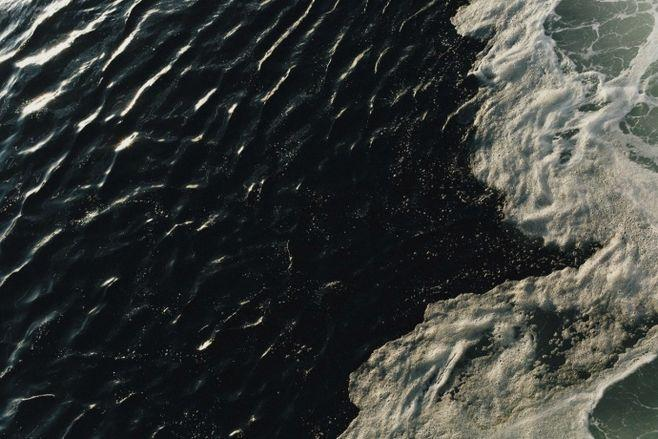sea_river: (7, 68, 652, 432)
